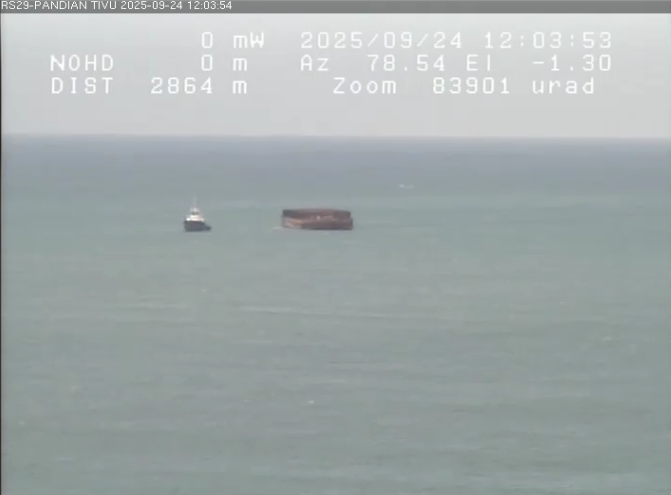BARGE: (263, 193, 378, 246)
OFFSHORE_SUPPLY_VESSEL: (162, 193, 219, 239)
TOWING: (120, 168, 419, 284)
